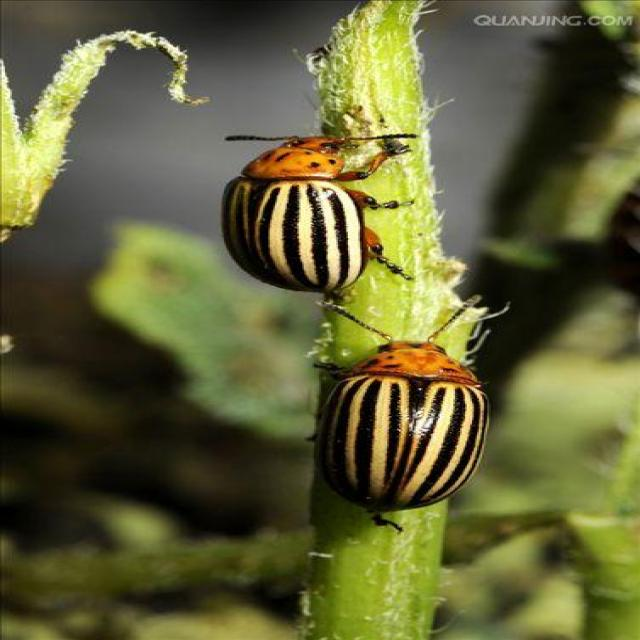ShuCaiHuaBanChong-Grown-: (200, 119, 415, 300), (298, 327, 500, 512)
